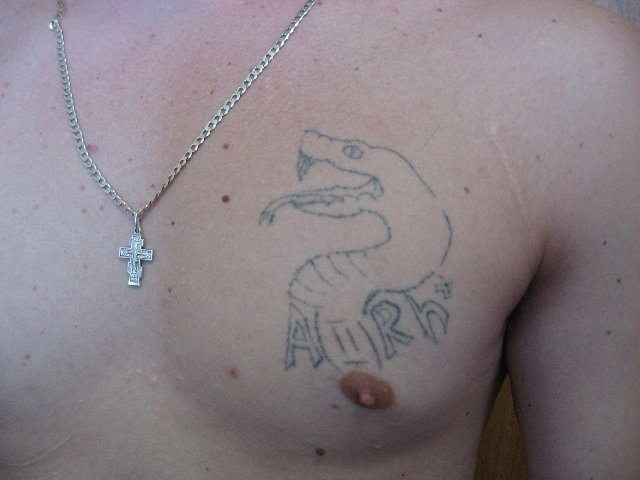tatu3_bukva: (272, 300, 470, 372)
tatu7_zmeya: (252, 121, 501, 284)
